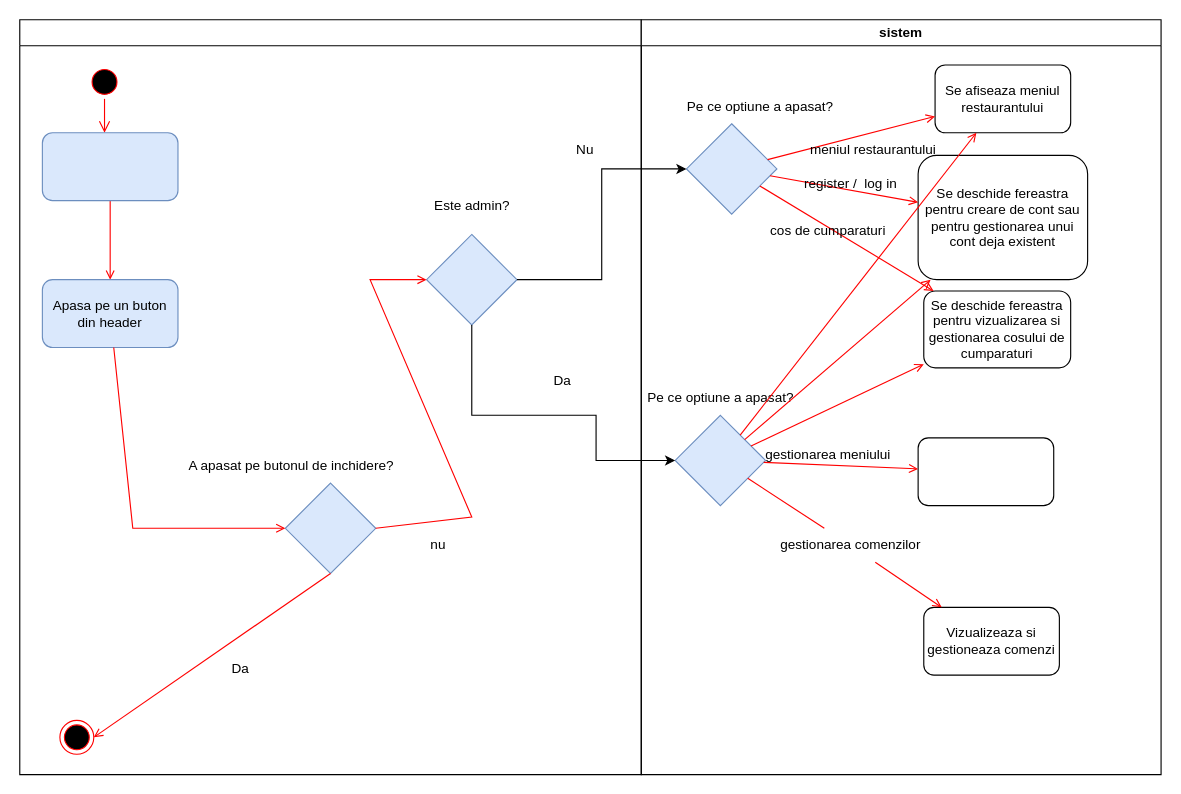
This 1181x794 diagram has some shape labels left out. The box of each missing label's shape, as (x1, y1, x2, y2) in pixels:
Adauga noi produse pe site: (917, 437, 1054, 506)
Deschide aplicatia de tip website: (41, 132, 178, 201)
Utilizator: (19, 19, 641, 775)
